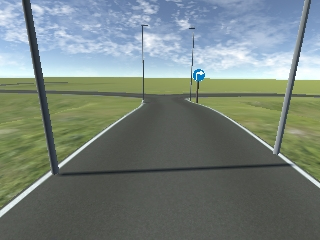right: (192, 68, 205, 81)
